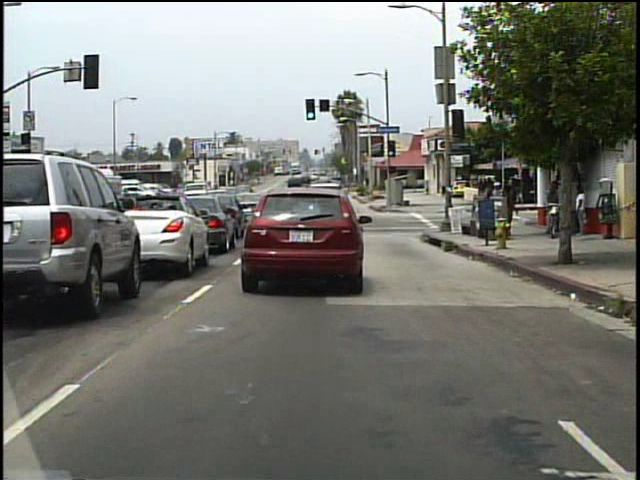person: (504, 181, 523, 237), (575, 186, 590, 238), (489, 180, 507, 223), (545, 182, 561, 230), (574, 183, 575, 240)
